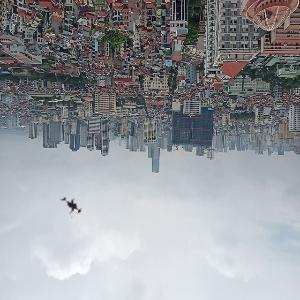drone: (52, 189, 90, 227)
